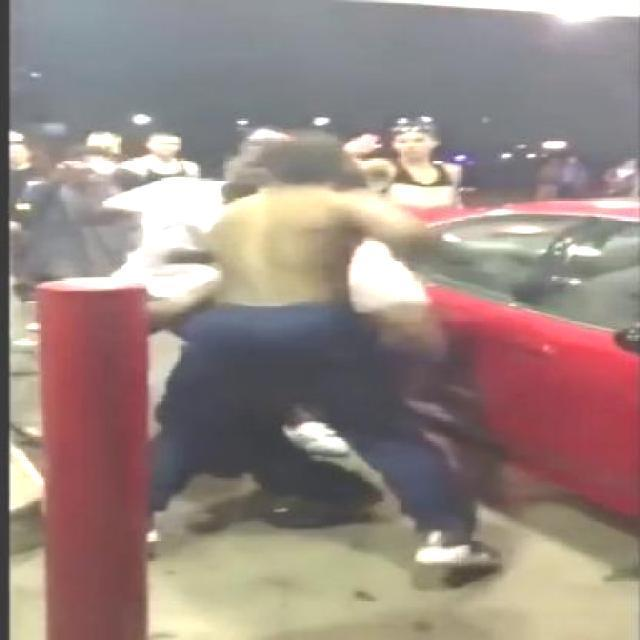fight: (108, 142, 497, 575)
